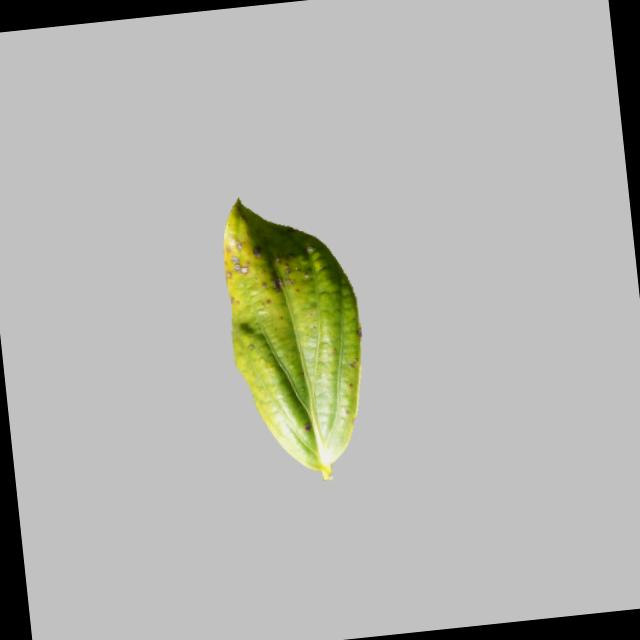yellow-mottle-virus: (207, 186, 379, 491)
